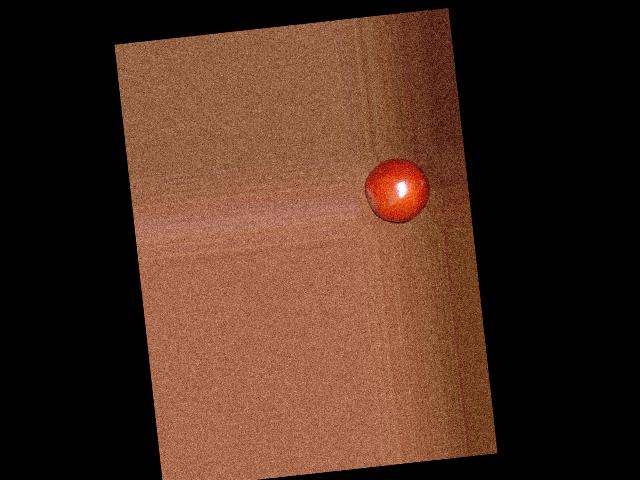tomato: (362, 154, 433, 226)
